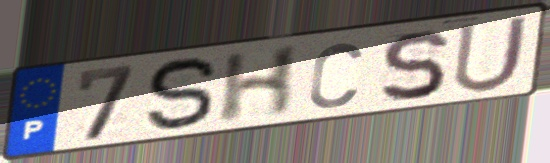7: (74, 61, 139, 144)
C: (305, 40, 366, 112)
H: (214, 42, 304, 127)
S: (144, 54, 221, 136), (377, 28, 450, 105)
U: (448, 12, 533, 95)
